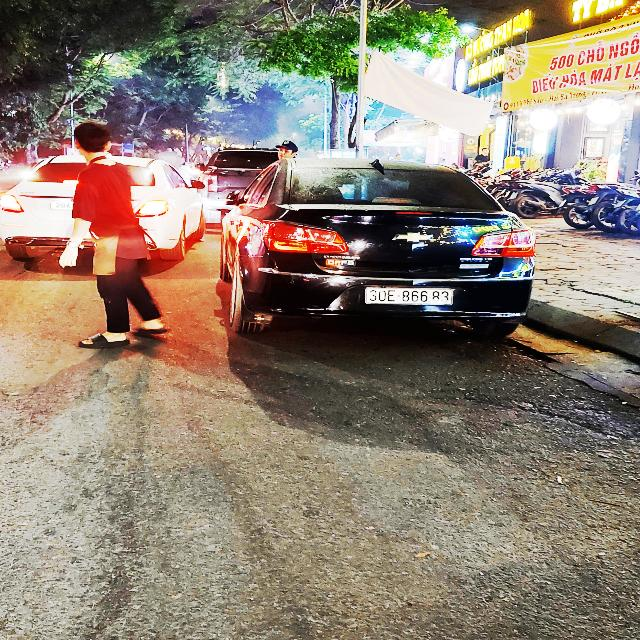license_plate: (367, 287, 457, 307)
